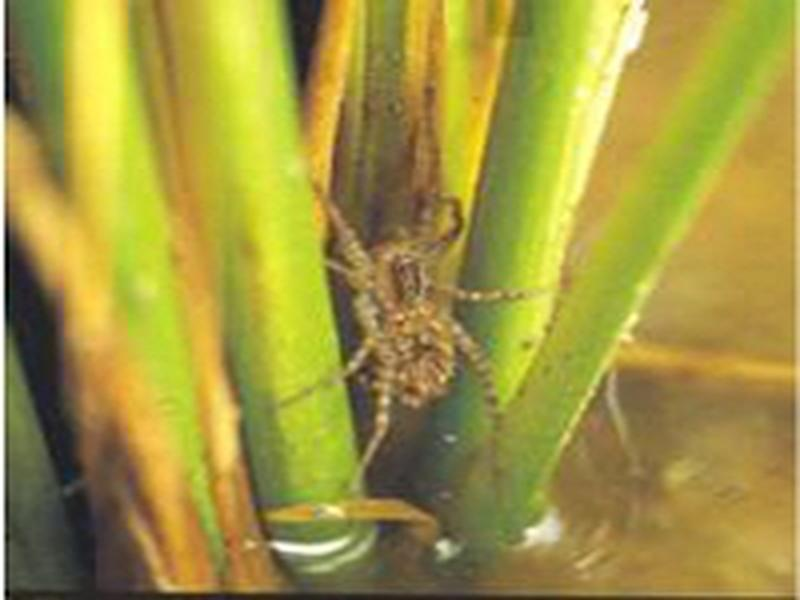White_backed_plant_hopper: (287, 208, 532, 444)
